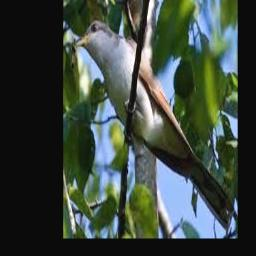Cuckoo: (76, 18, 234, 230)
